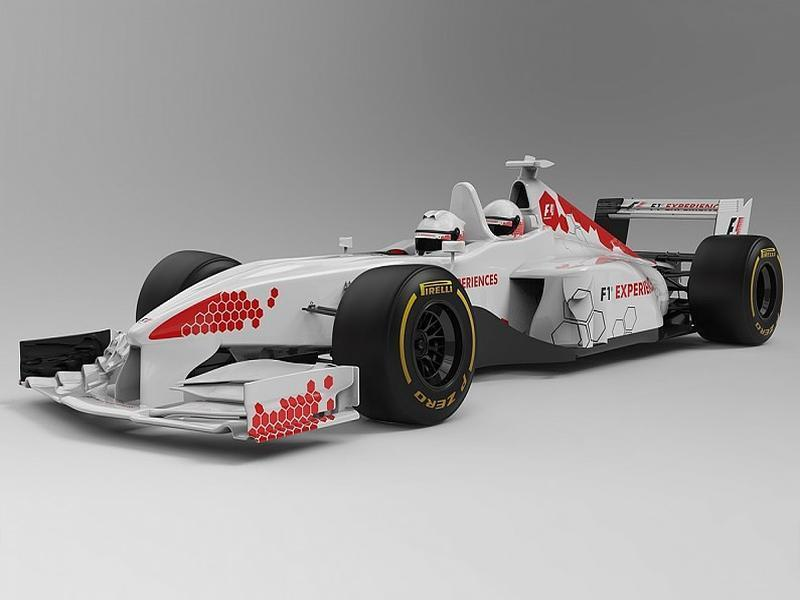f1: (12, 165, 800, 447)
